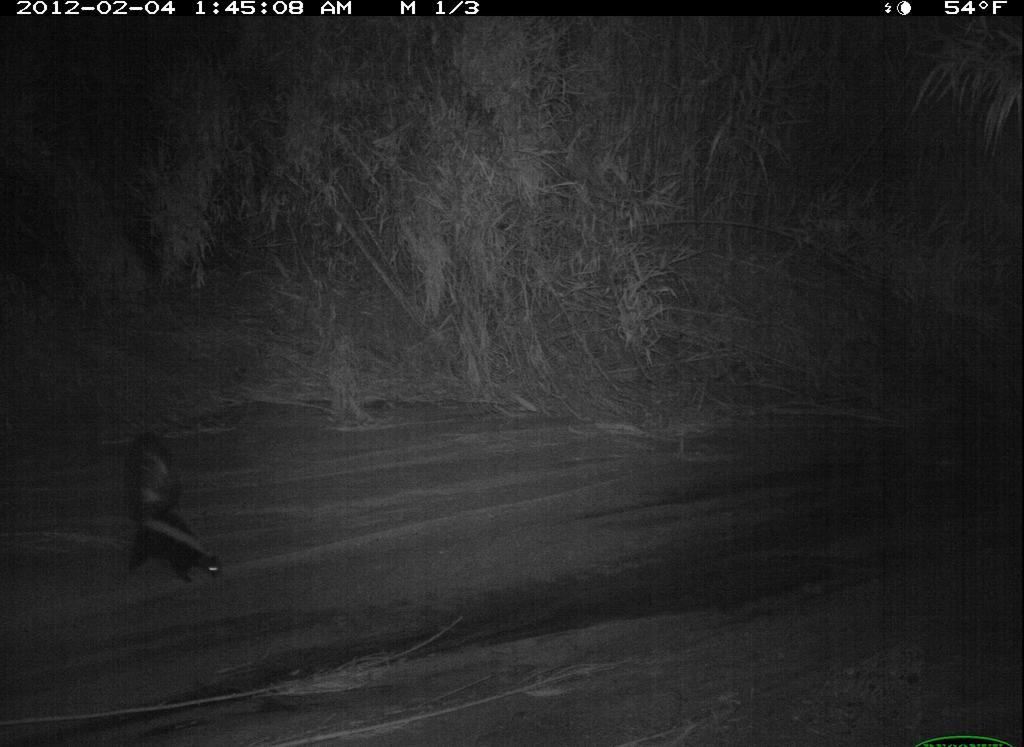skunk: (109, 427, 239, 607)
